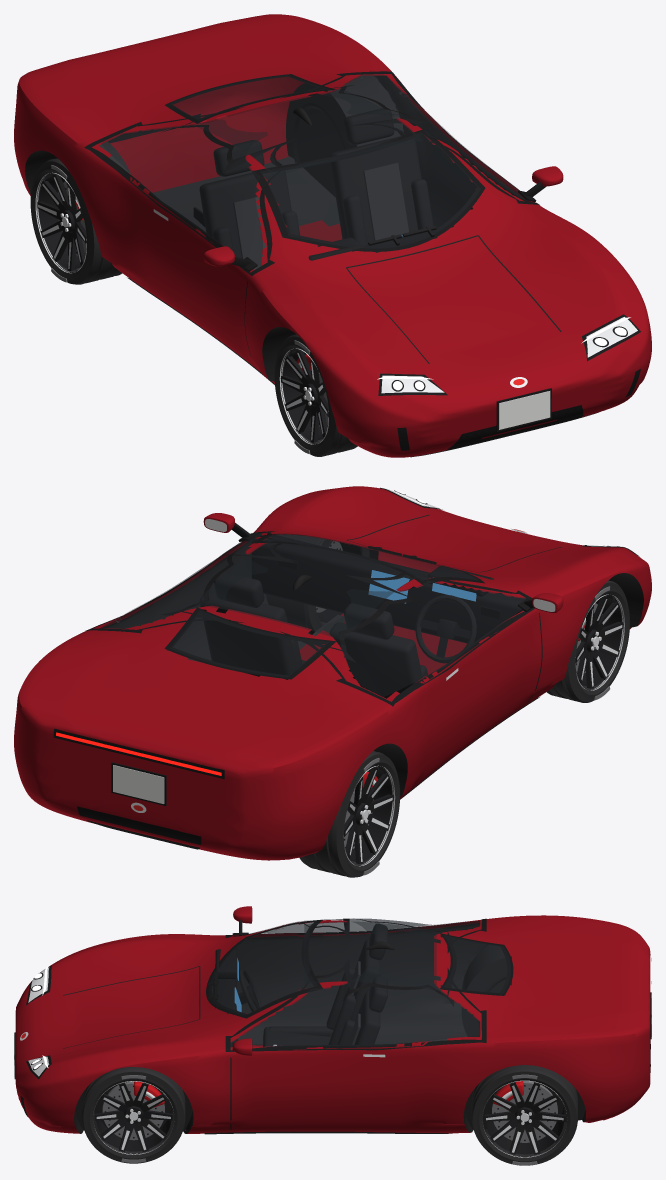
The model's file is roadster2.glb.
3 renders of one model, top to bottom at view 1: azimuth 30°, elevation 25°; view 2: azimuth 150°, elevation 25°; view 3: azimuth 270°, elevation 25°, orthographic. The views are drawn at different scales.
Visible parts, largest first — view 1: Body, Wheel_RR, Wheel_FR; view 2: Body, Wheel_RR, Wheel_FR, Wheel_FL; view 3: Body, Wheel_RL, Wheel_FL.
Part boxes in pixels (box(x1,y1,x2,y2)): Body: box(14, 14, 651, 457); Wheel_RR: box(30, 158, 122, 284); Wheel_FR: box(274, 334, 357, 456); Body: box(14, 486, 651, 860); Wheel_RR: box(299, 751, 400, 877); Wheel_FR: box(547, 580, 629, 702); Wheel_FL: box(304, 538, 369, 634); Body: box(14, 906, 651, 1134); Wheel_RL: box(471, 1065, 577, 1165); Wheel_FL: box(82, 1067, 185, 1163).
Size of the model in its own units: 2.29 by 1.22 by 4.32.
